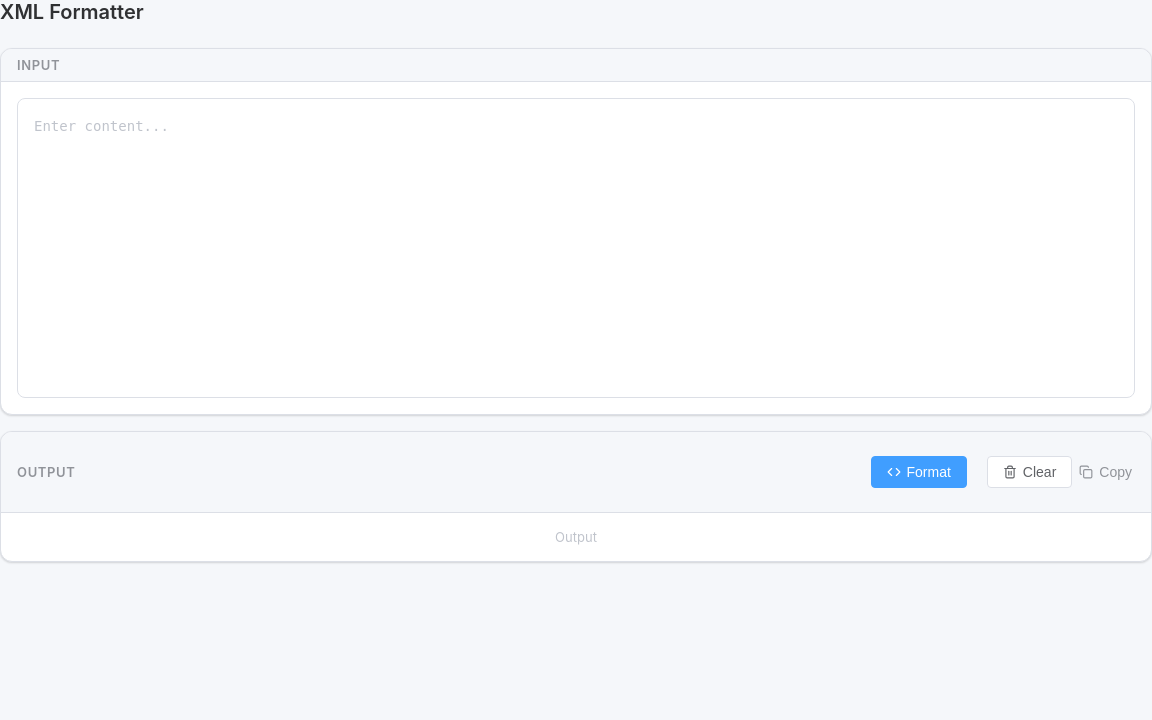
XmlFormatter › should format XML on button click
Type "<root><name>test</name><age>18</age></root>" into the text box with placeholder "Enter content..." at (576, 248), box [17,98,1135,398]
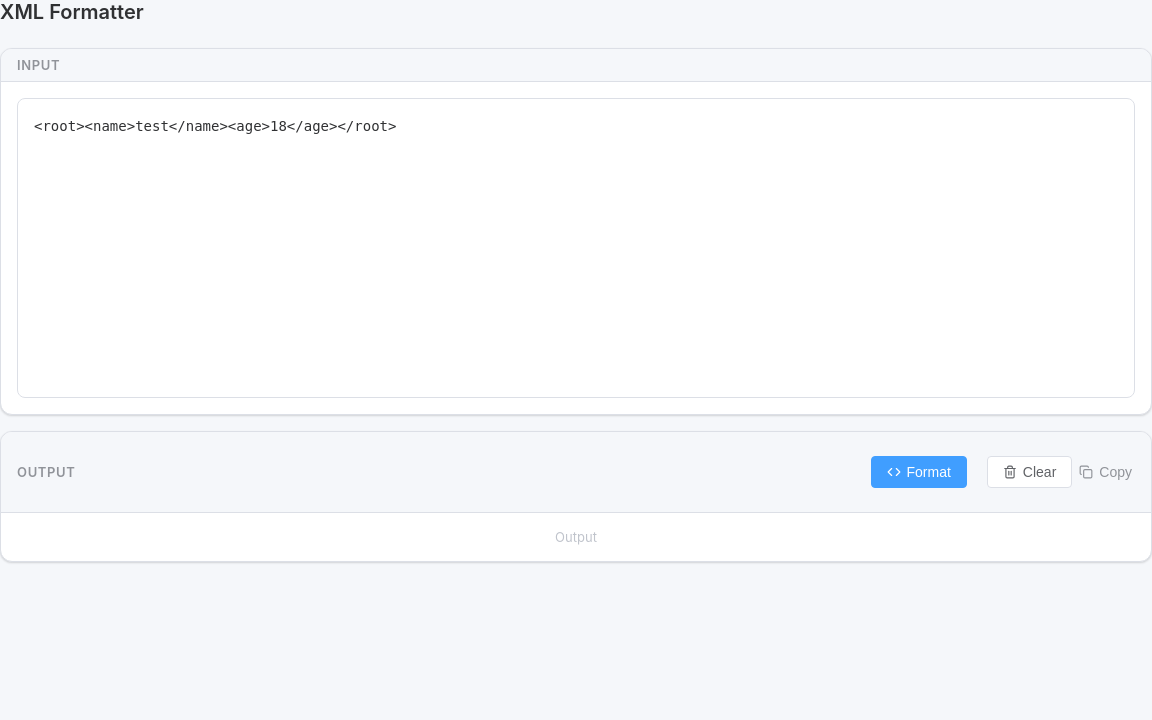
Click the button "Format" at (919, 472), box [870,456,967,488]
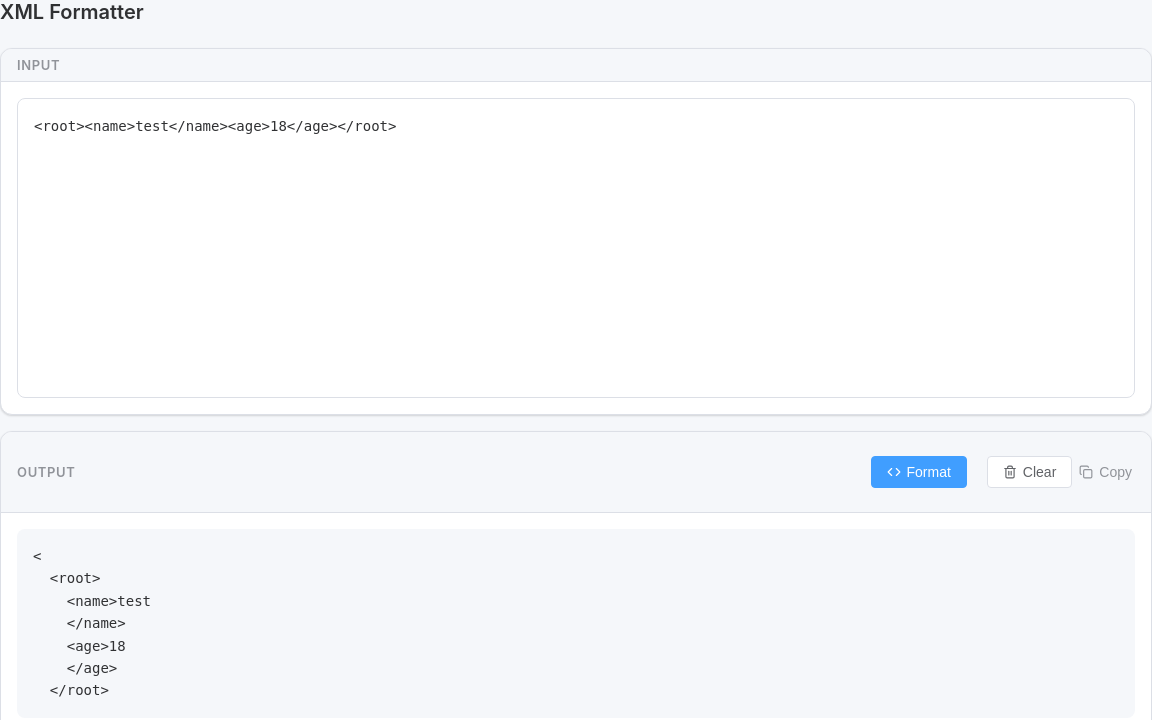
Check: the element with class "code-content" shows "</name>", box [33,548,151,698]
